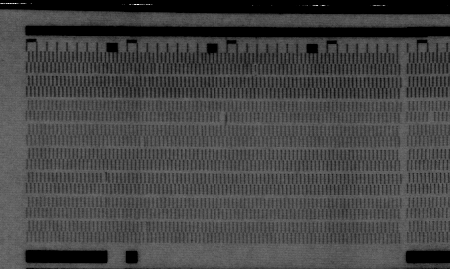Broken hole: (218, 110, 229, 124), (427, 112, 437, 123)
Oblique printing: (98, 172, 112, 185), (137, 134, 150, 147), (140, 221, 152, 231)
